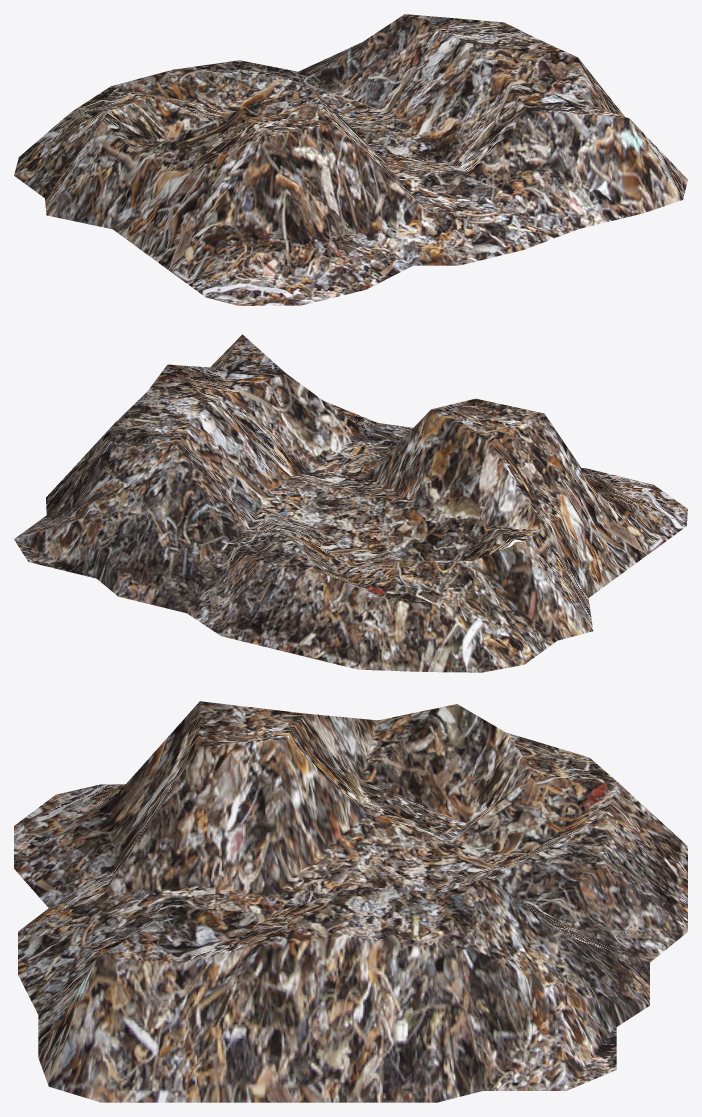
Rendered from RubPile1.FBX.
3 renders of one model, top to bottom at view 1: azimuth 30°, elevation 25°; view 2: azimuth 150°, elevation 25°; view 3: azimuth 270°, elevation 25°, orthographic. The views are drawn at different scales.
Visible parts, largest first — view 1: Plane01; view 2: Plane01; view 3: Plane01.
Boxes of the visible parts, x1,y1,x2,y2 form: Plane01: (14,14,687,305); Plane01: (14,334,687,672); Plane01: (14,701,687,1102).
Bounding box in the file's own units: 2.39 × 0.5187 × 1.99.
